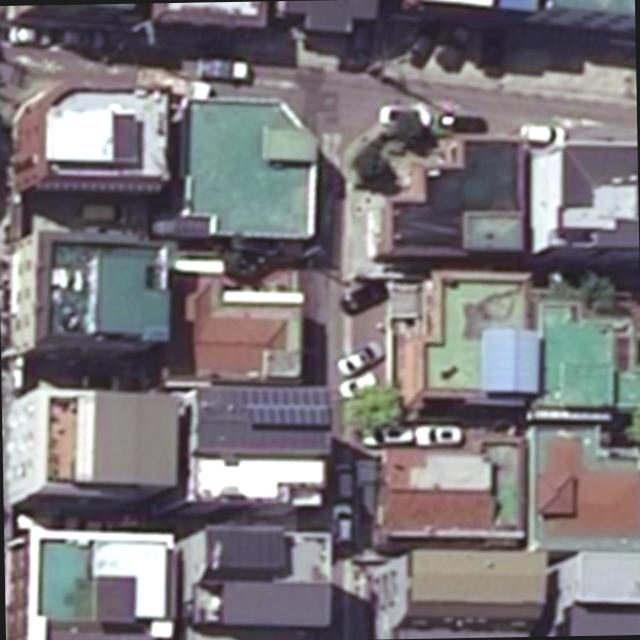solar: (244, 384, 332, 428)
